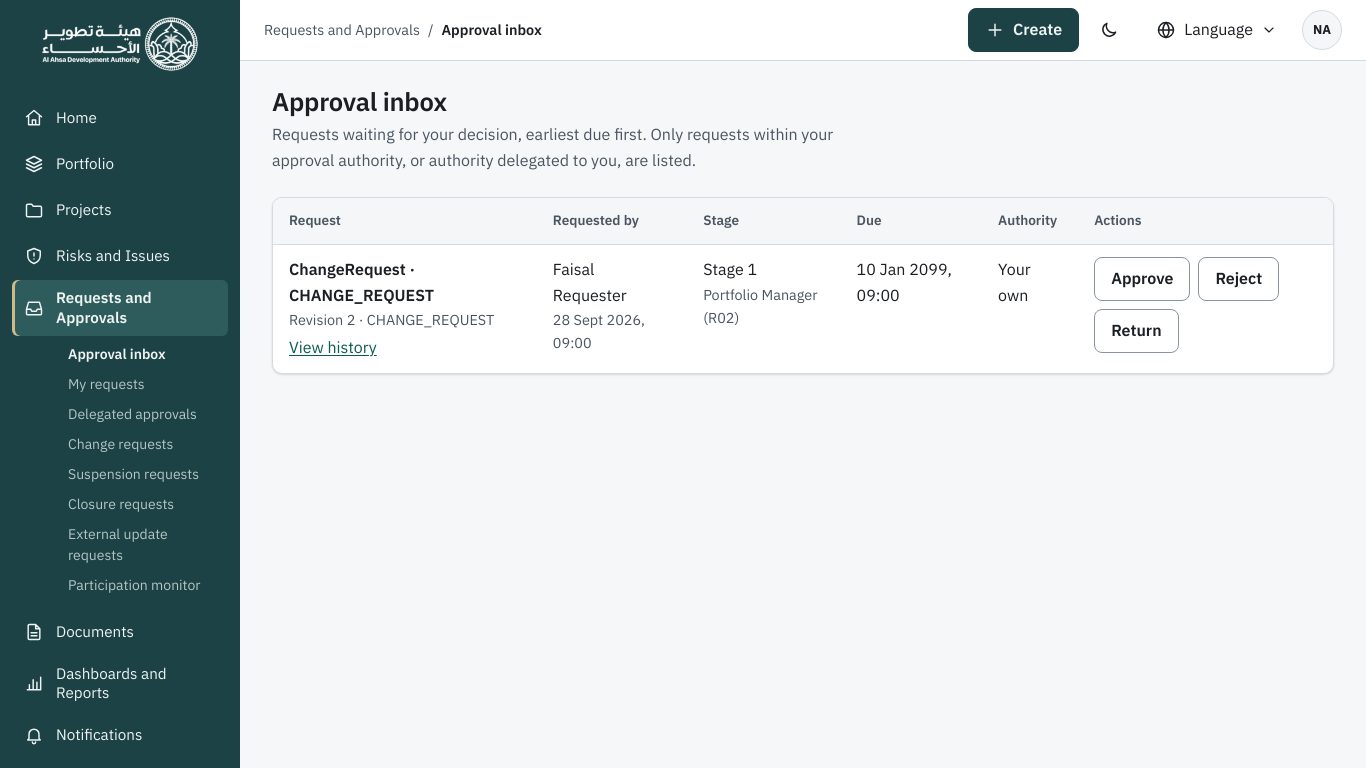
MOD-041 reject and MOD-042 return need a reason › a reason is sent with the language it was written in, and the inbox is read again
Click the button "Reject".
click(1239, 279)  # box x1=1198 y1=257 x2=1279 y2=301
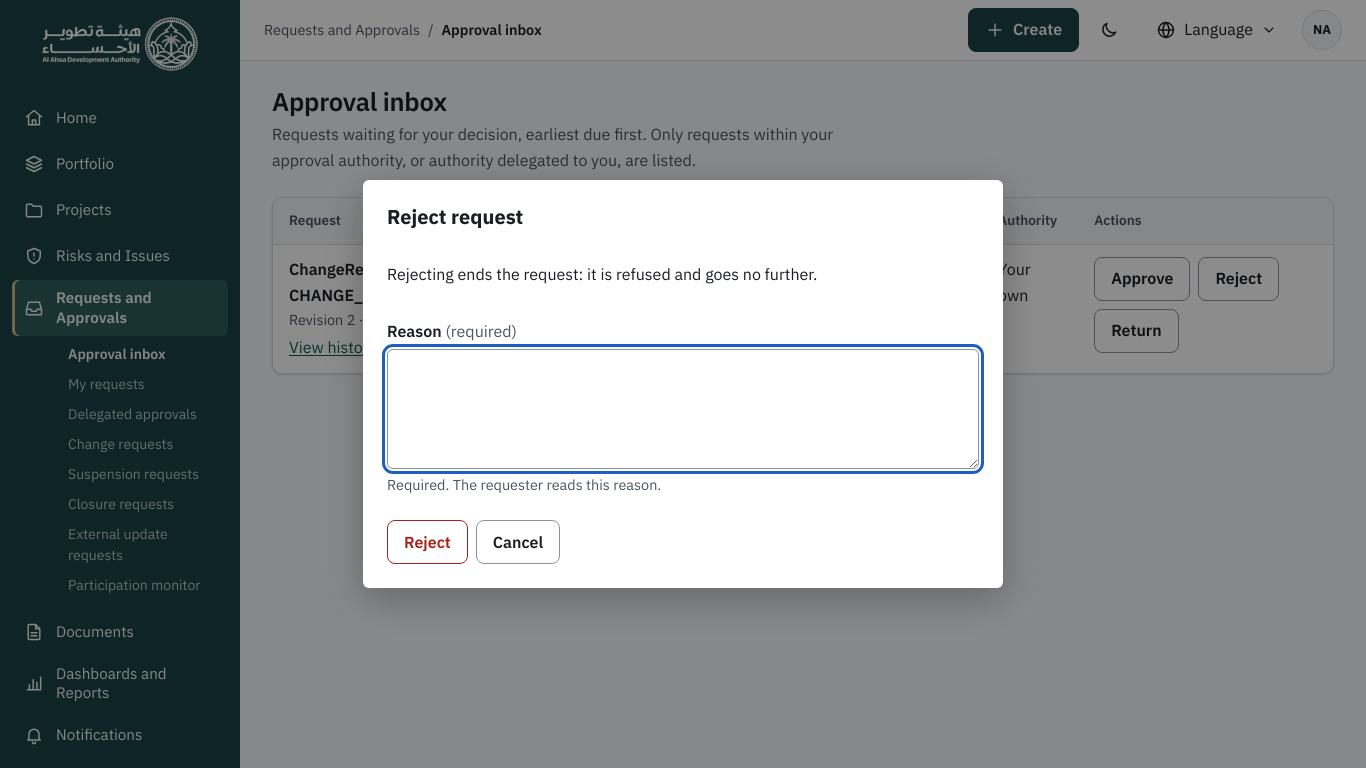
Type "  Out of budget.  " into the text box labelled "Reason (required)".
click(683, 409); type("  Out of budget.  ")  # box x1=387 y1=349 x2=979 y2=469
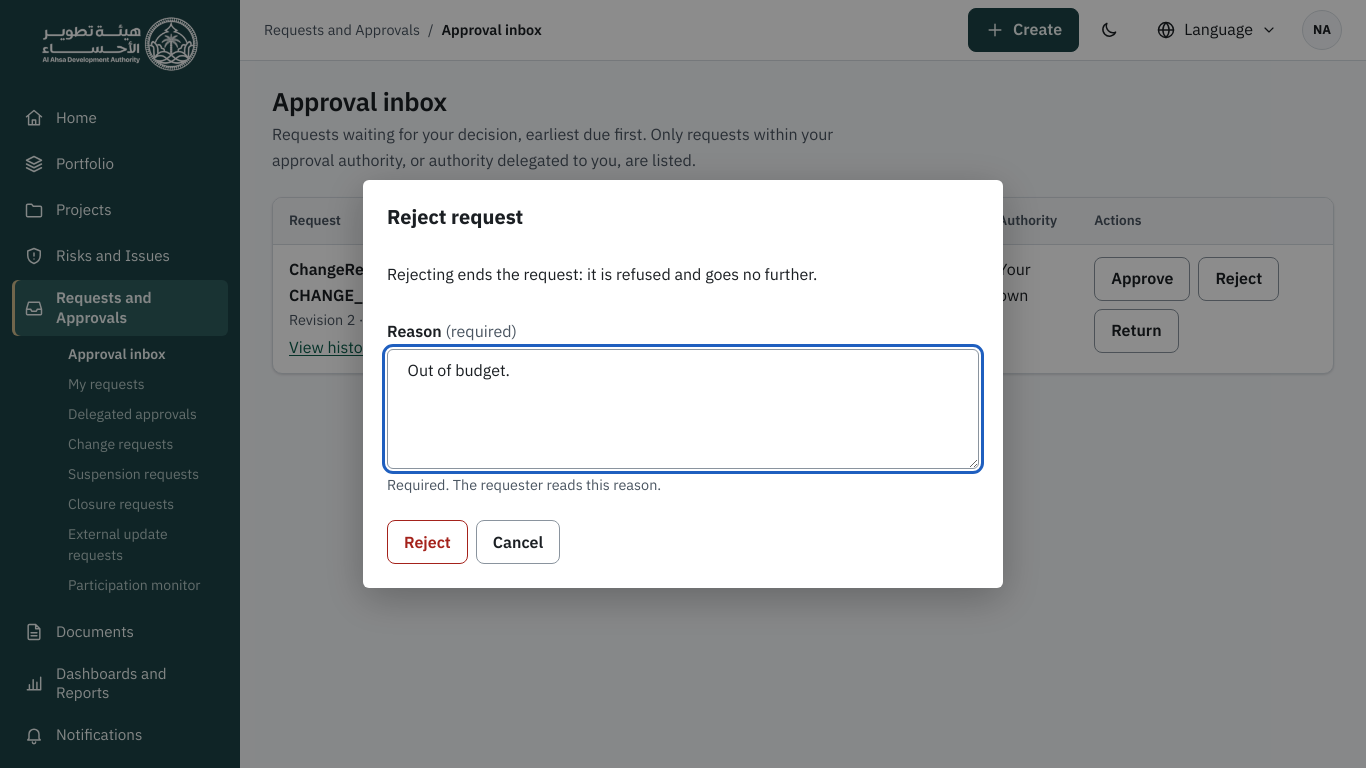
Click the button "Reject".
click(427, 542)  # box x1=387 y1=520 x2=468 y2=564
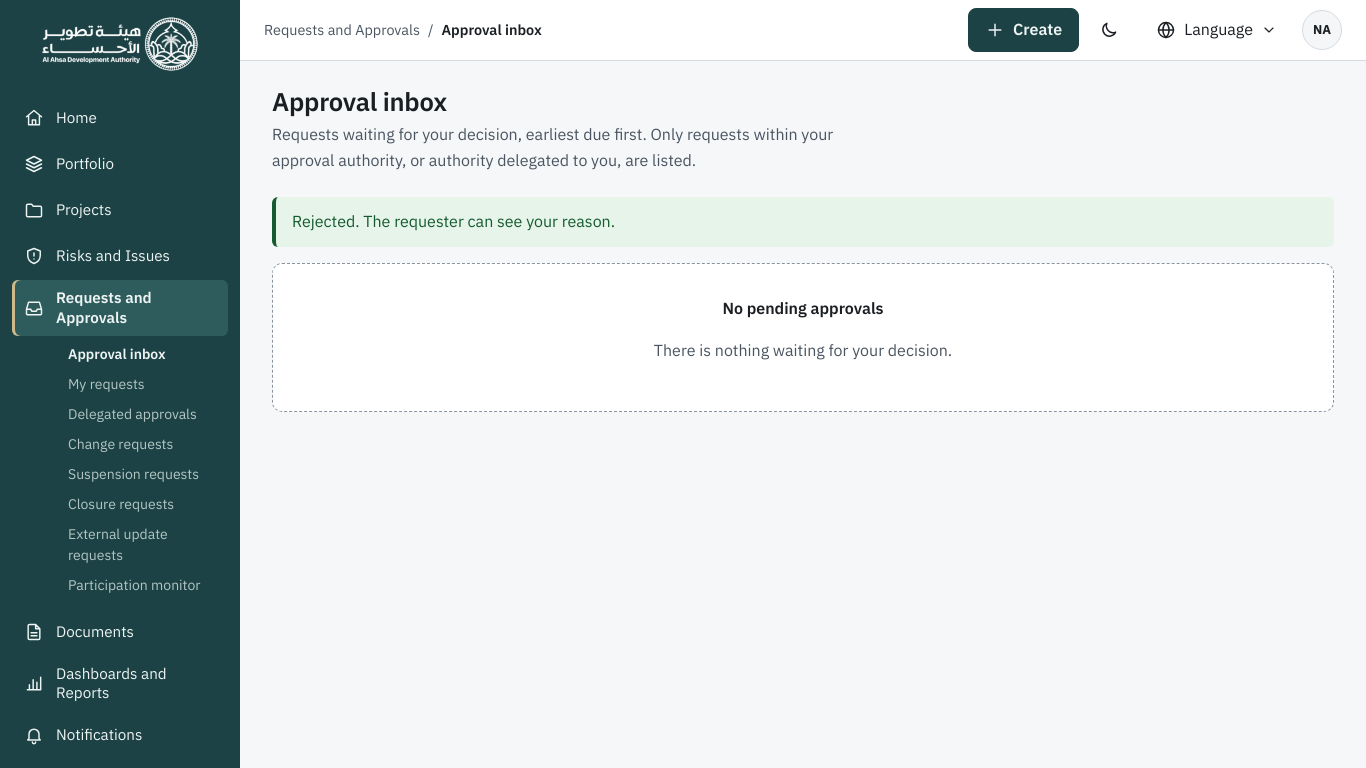
Expected: the text "Rejected. The requester can see your reason." is shown, x1=272 y1=198 x2=1334 y2=247
Expected: the dialog is gone
Expected: the text "No pending approvals" is shown, x1=722 y1=298 x2=884 y2=318
